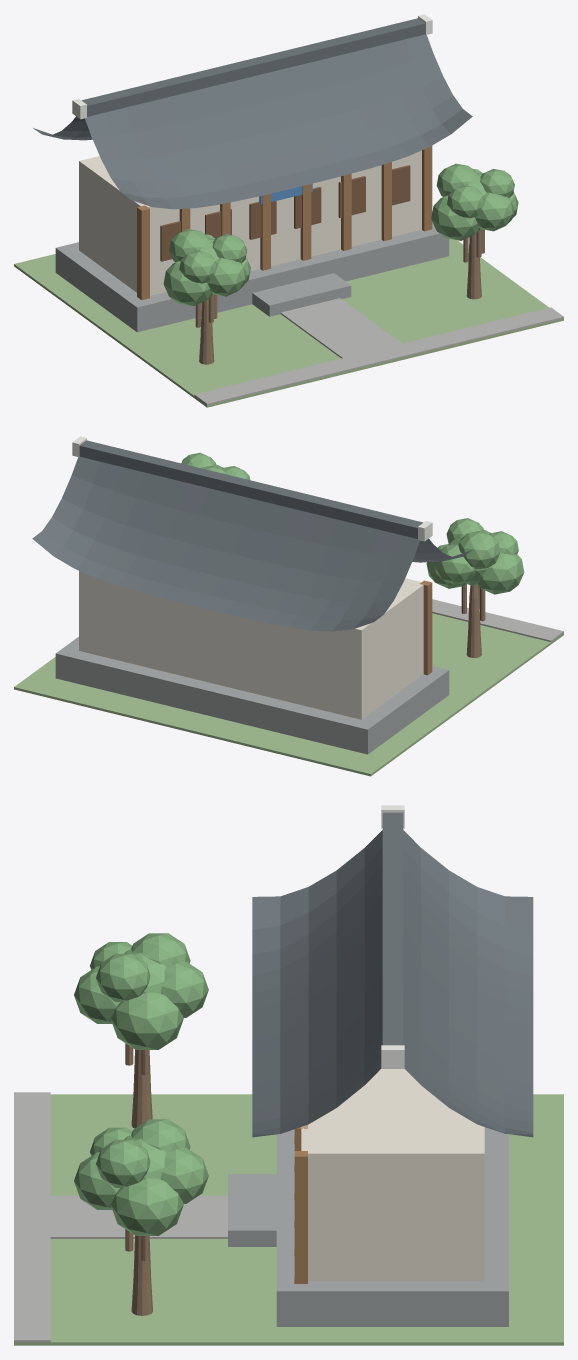
The model's file is school.fbx.
3 views of the same model, one above another, from view 1: azimuth 30°, elevation 25°; view 2: azimuth 150°, elevation 25°; view 3: azimuth 270°, elevation 25° (orthographic). The views are drawn at different scales.
Parts seen in each view (by area): view 1: school; view 2: school; view 3: school.
Part boxes in pixels (left/top/right/bottom): school: left=14, top=14, right=563, bottom=407; school: left=14, top=436, right=563, bottom=776; school: left=14, top=805, right=563, bottom=1345.
Size of the model in its own units: 960 by 531 by 900.
